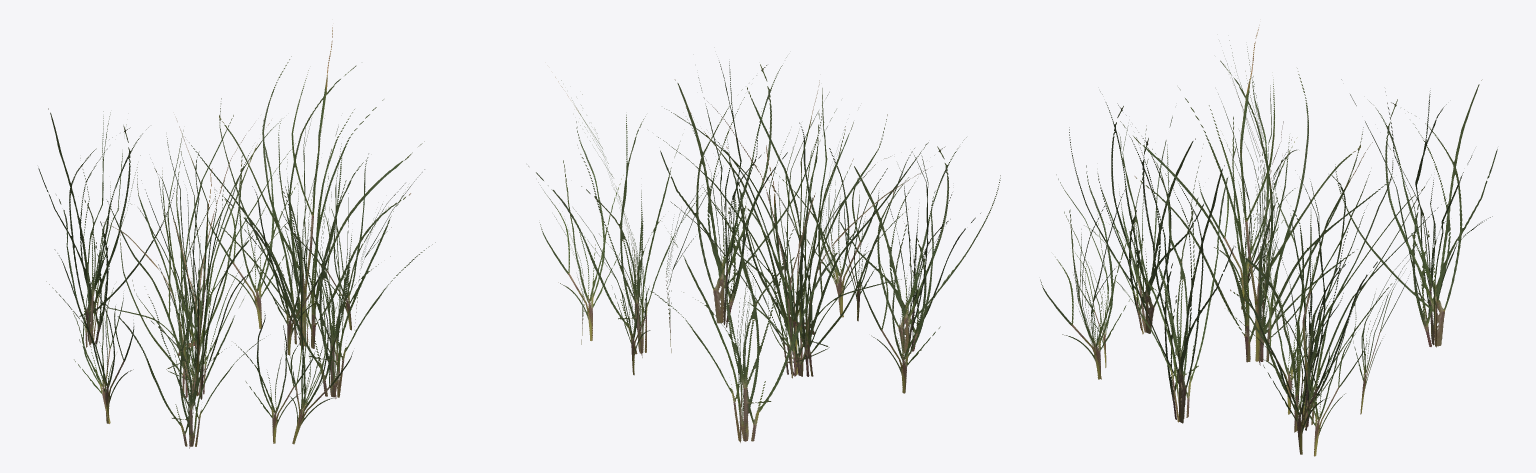
File: beach_grass_02_4.fbx
3 views of the same model, side by side, from view 1: azimuth 30°, elevation 25°; view 2: azimuth 150°, elevation 25°; view 3: azimuth 270°, elevation 25° (orthographic). The views are drawn at different scales.
Visible parts, largest first — view 1: beach_grass_02_4_LOD0; view 2: beach_grass_02_4_LOD0; view 3: beach_grass_02_4_LOD0.
Part boxes in pixels (left/top/right/bottom): beach_grass_02_4_LOD0: left=38, top=27, right=435, bottom=448; beach_grass_02_4_LOD0: left=528, top=57, right=1000, bottom=442; beach_grass_02_4_LOD0: left=1040, top=25, right=1497, bottom=456.
Size of what is drawn, in the model's own units: 49.24 by 38.19 by 47.28.
